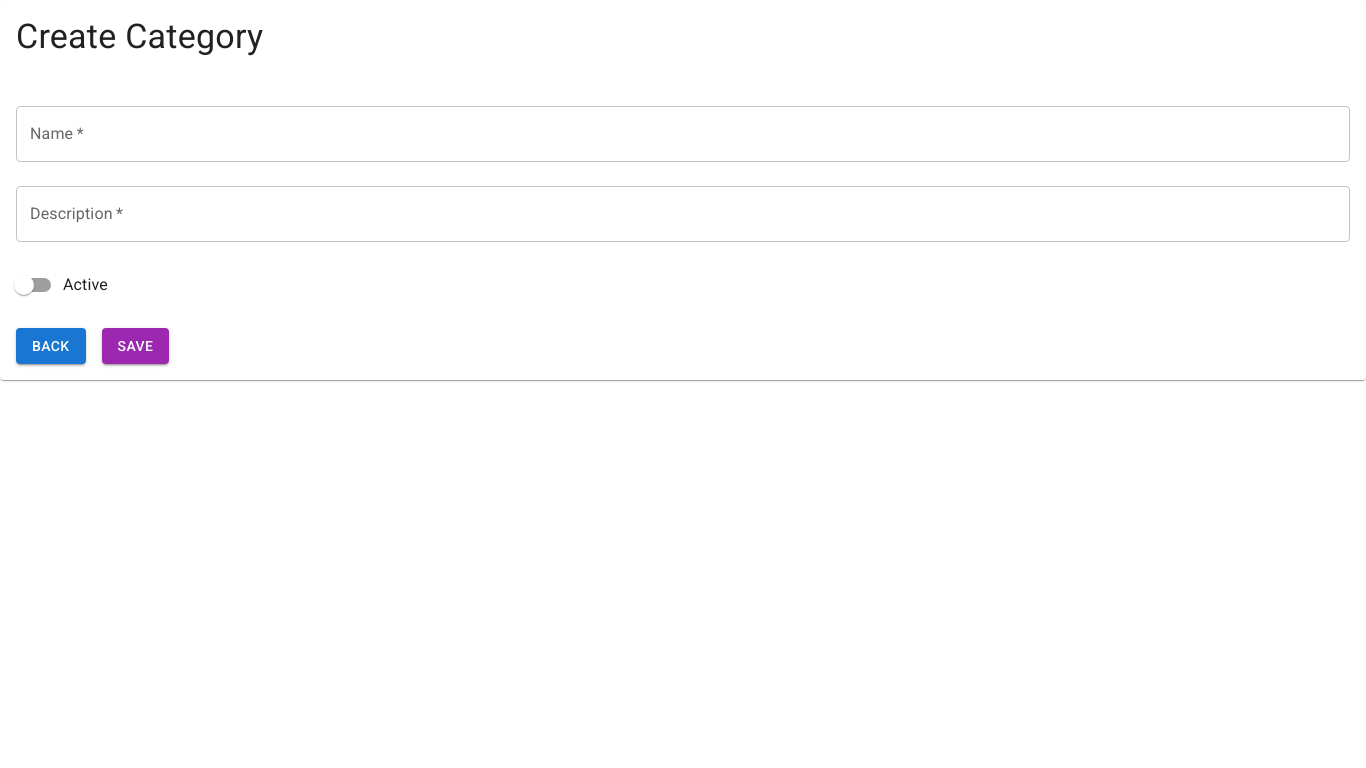
Test: CreateCategory › should handle submit
In the field with test id "name": (683, 134) [16,106,1350,162], type "test"
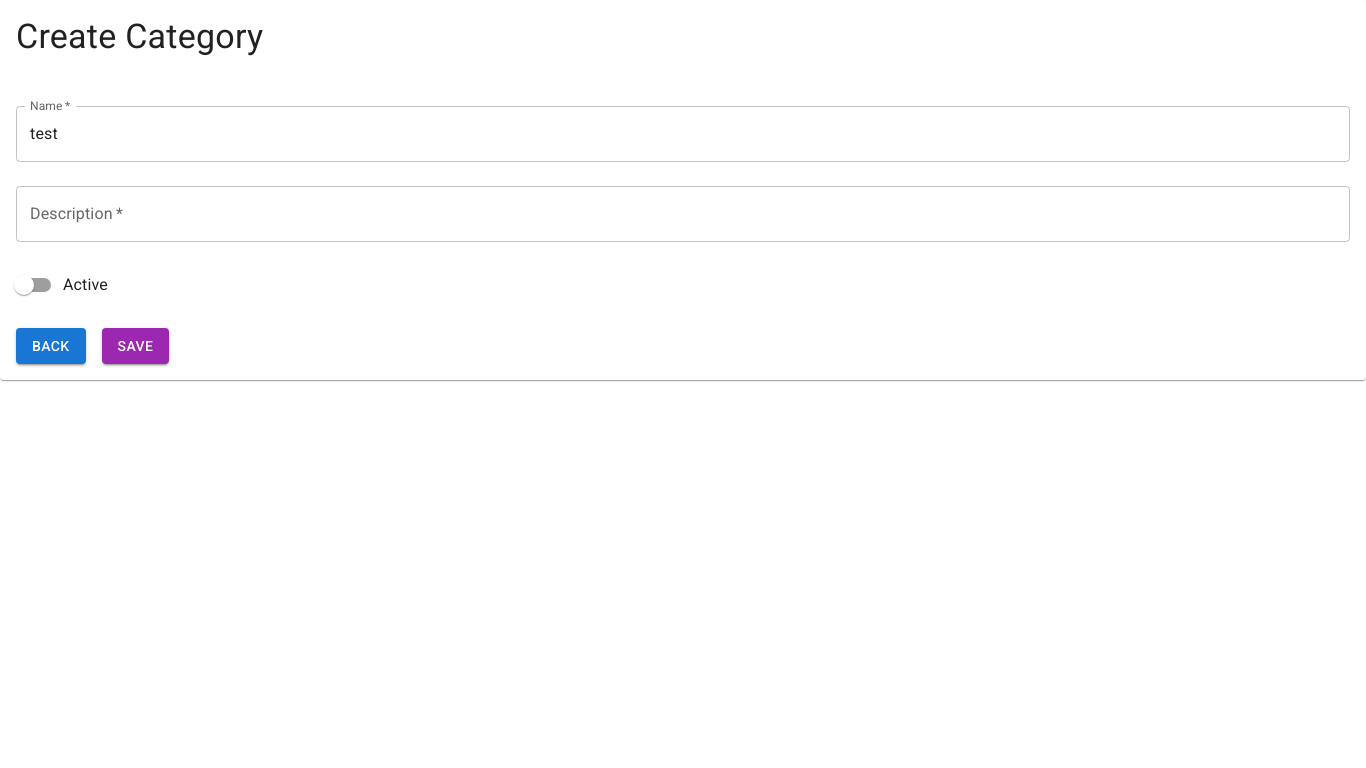
In the field with test id "description": (683, 214) [16,186,1350,242], type "test desc"
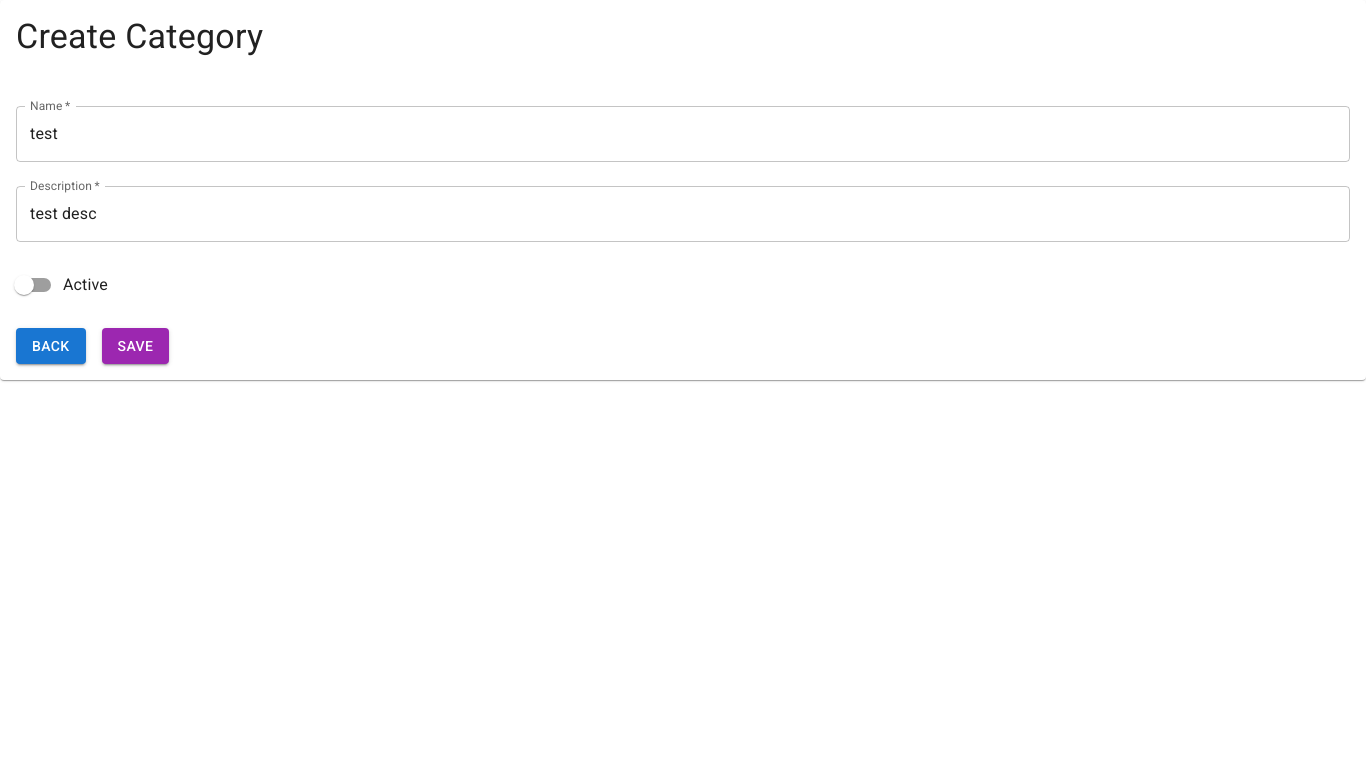
Click the element with test id "is_active": (24, 285) [14,275,34,295]
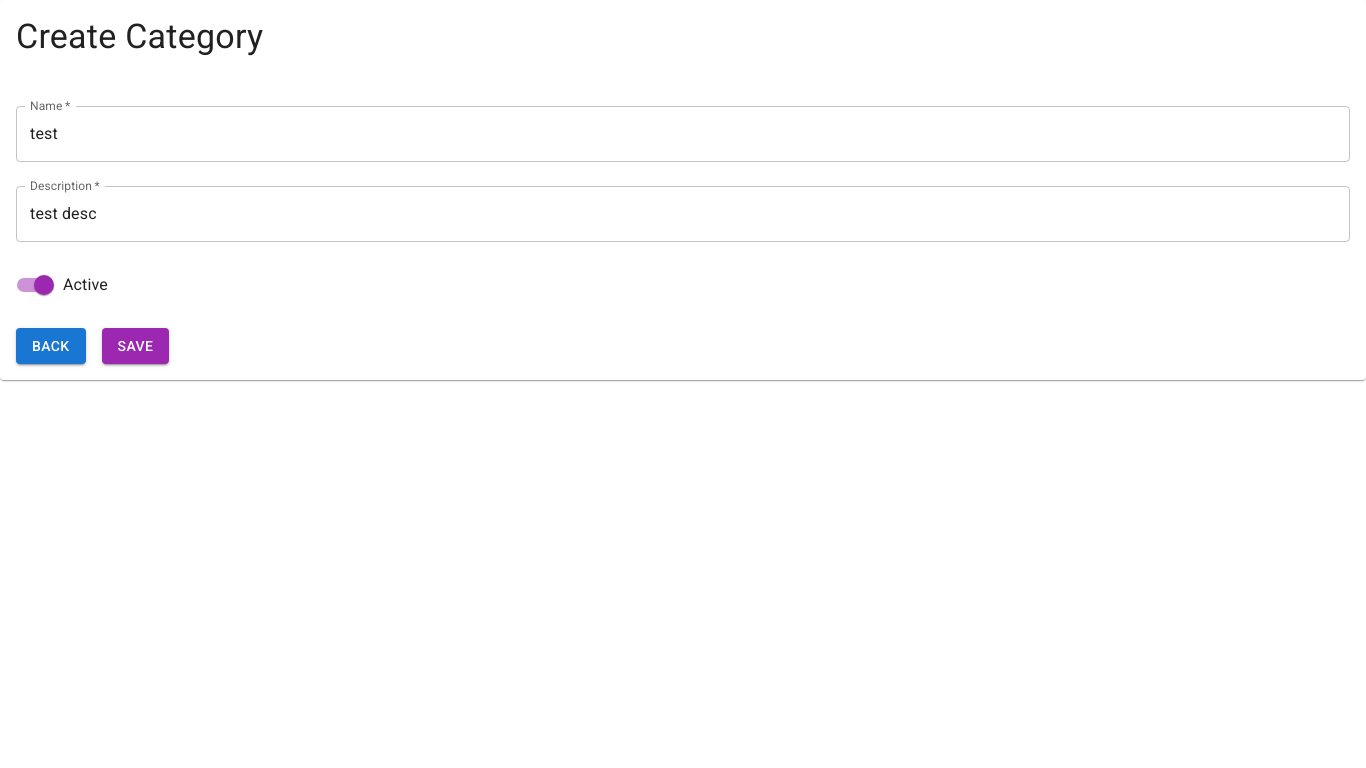
Click the button "Save": (136, 346) [102,328,169,364]
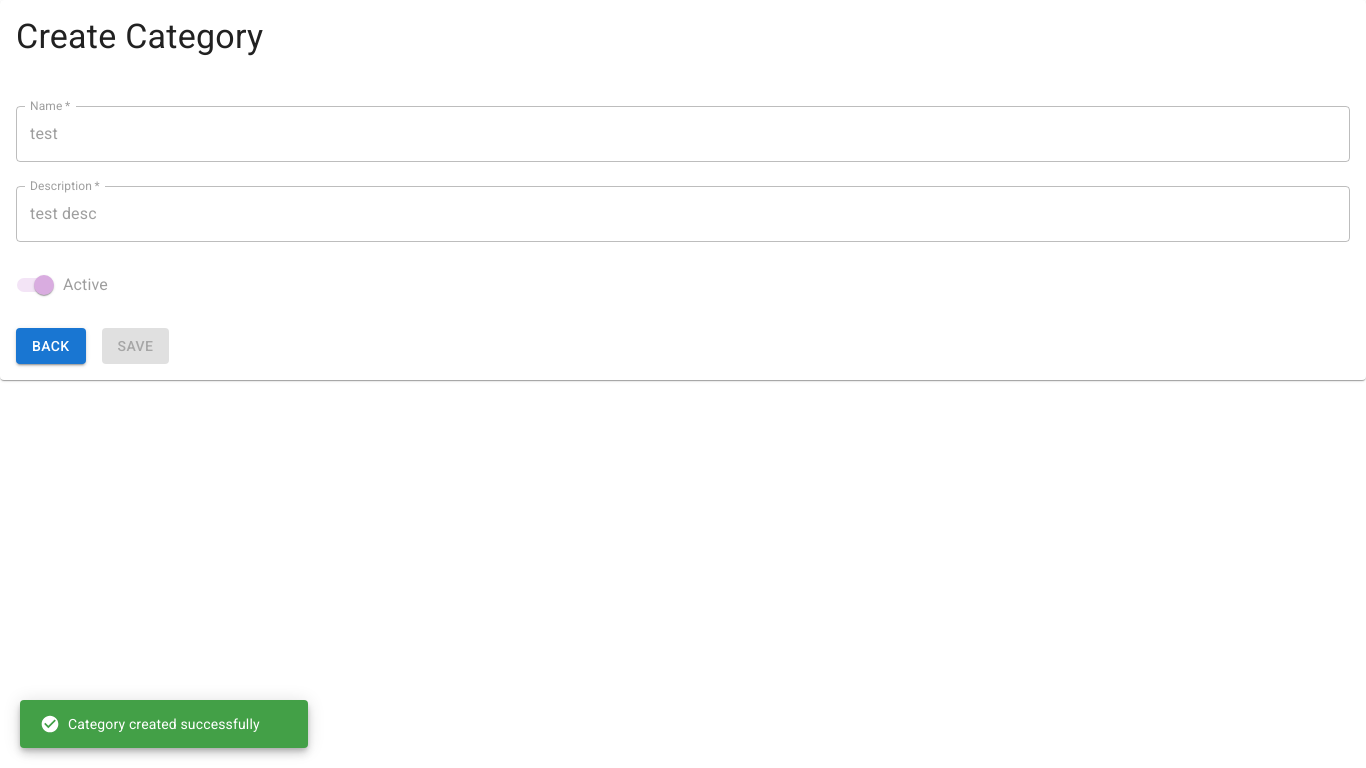
Now the text "Category created successfully" is shown, box [40,714,260,734]
